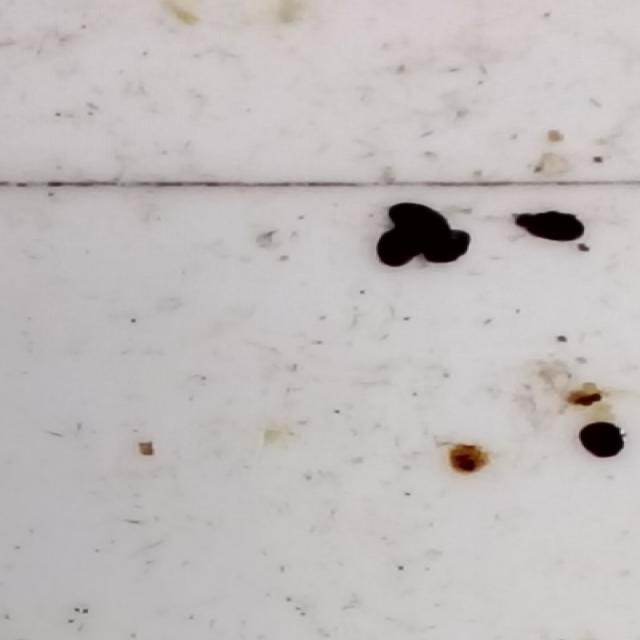varroa: (381, 198, 452, 240), (515, 212, 587, 243), (578, 421, 628, 464), (423, 230, 472, 268), (373, 236, 426, 270)
